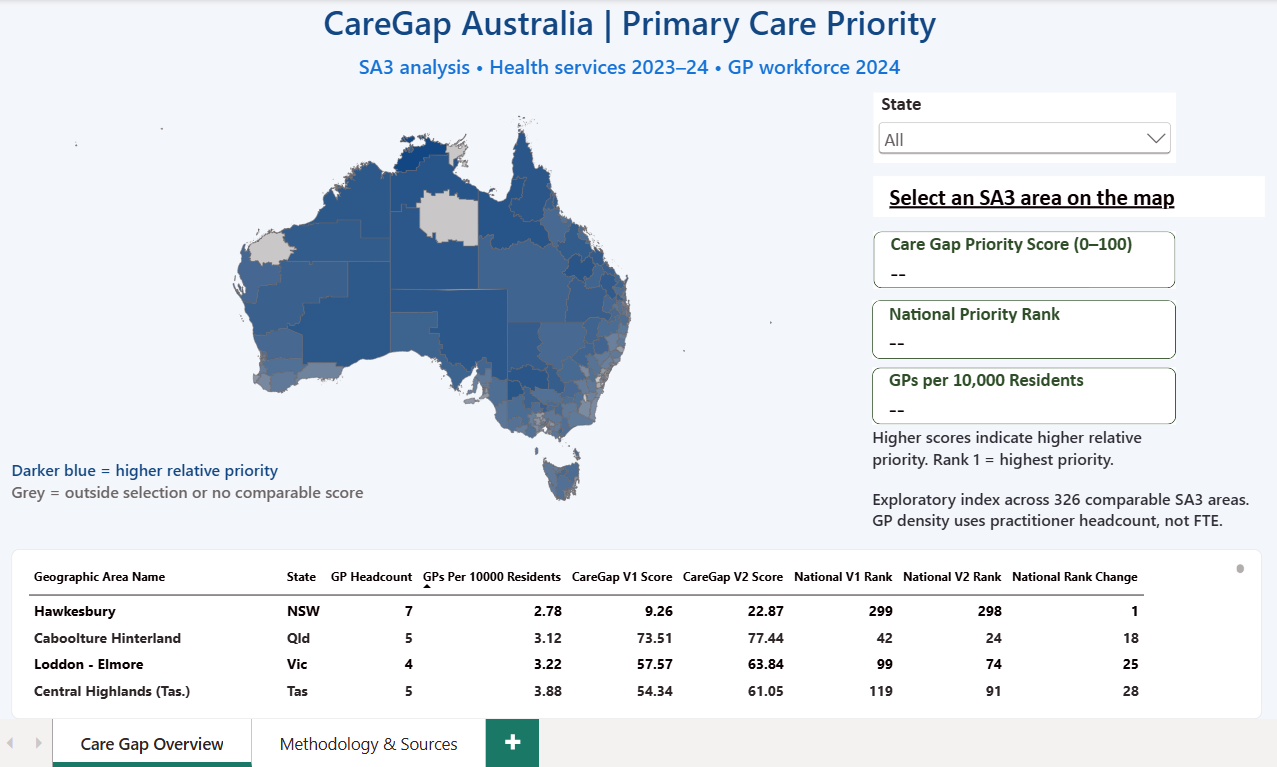

The dashboard page shown, as its layout file describes it:
{"tool":"powerbi","page":{"name":"Care Gap Overview","canvas":[1280,720],"ordinal":0},"visuals":[{"type":"tableEx","fields":{"Values":["rpt vwCareGapDashboardV2.GeographicAreaName","rpt vwCareGapDashboardV2.StateTerritory","Sum(rpt vwCareGapDashboardV2.GPPractitionerCount)","Sum(rpt vwCareGapDashboardV2.GPsPer10000Residents)","Sum(rpt vwCareGapDashboardV2.CareGapPriorityScoreV1)","Sum(rpt vwCareGapDashboardV2.CareGapPriorityScoreV2)","Sum(rpt vwCareGapDashboardV2.NationalPriorityRankV1)","Sum(rpt vwCareGapDashboardV2.NationalPriorityRankV2)","Sum(rpt vwCareGapDashboardV2.NationalRankChangeV1ToV2)"]},"box":[12.7,550.7,1250.7,170.4],"z":0},{"type":"shapeMap","fields":{"Category":["rpt vwCareGapDashboardV2.GeographicCode"],"Value":["Max(rpt vwCareGapDashboardV2.CareGapPriorityScoreV2)"]},"box":[0,81.1,849.1,459.5],"z":1000},{"type":"cardVisual","title":"Selected Area Score ","fields":{"Data":["rpt vwCareGapDashboardV2.Selected Area Score"]},"box":[874.6,232.4,302.8,57.7],"z":2000},{"type":"cardVisual","title":"Selected Area Score ","fields":{"Data":["rpt vwCareGapDashboardV2.Selected Area Rank"]},"box":[873.2,301.4,304.2,59.2],"z":4001},{"type":"cardVisual","title":"Selected Area Score ","fields":{"Data":["rpt vwCareGapDashboardV2.Selected Area GP Density"]},"box":[873.2,369,304.2,57.7],"z":4002},{"type":"cardVisual","title":"Selected Area Score ","fields":{"Data":["rpt vwCareGapDashboardV2.Selected Area Name"]},"box":[874.6,177.5,391.5,40.8],"z":4003},{"type":"textbox","title":"CareGap Australia | Primary Care Priority","box":[172.3,0,918.1,46.6],"z":4004},{"type":"textbox","title":"SA3 analysis • Health services 2023–24 • GP workforce 2024","box":[171.9,53.6,917.3,28.9],"z":4005},{"type":"textbox","title":"Higher scores indicate higher relative priority. Rank 1 = highest priority.","box":[873.2,426.8,298.6,49.3],"z":4006},{"type":"textbox","title":"Darker blue = higher relative priority","box":[12.7,459.2,401.6,33],"z":4007},{"type":"textbox","title":"Grey = outside selection or no comparable score","box":[12.7,481.7,401.6,33],"z":4008},{"type":"textbox","title":"Exploratory index across 326 comparable SA3 areas. GP density uses practitioner headcount, not FTE.","box":[873.2,488.7,389.7,48.9],"z":4009},{"type":"slicer","fields":{"Values":["rpt vwCareGapDashboardV2.State"]},"box":[874.6,93,302.8,70.4],"z":4010}]}

Visuals, with their boxes on the page's 1280x720 design canvas (x1, y1, x2, y2). These are canvas units, not pixel positions in the 1277x767 screenshot, which may show the page scaled, cropped or inside an application window:
tableEx - rpt vwCareGapDashboardV2.GeographicAreaName x rpt vwCareGapDashboardV2.StateTerritory: [13, 551, 1263, 721]
shapeMap - rpt vwCareGapDashboardV2.GeographicCode x Max(rpt vwCareGapDashboardV2.CareGapPriorityScoreV2): [0, 81, 849, 541]
"Selected Area Score " cardVisual: [875, 232, 1177, 290]
"Selected Area Score " cardVisual: [873, 301, 1177, 361]
"Selected Area Score " cardVisual: [873, 369, 1177, 427]
"Selected Area Score " cardVisual: [875, 178, 1266, 218]
"CareGap Australia | Primary Care Priority" textbox: [172, 0, 1090, 47]
"SA3 analysis • Health services 2023–24 • GP workforce 2024" textbox: [172, 54, 1089, 82]
"Higher scores indicate higher relative priority. Rank 1 = highest priority." textbox: [873, 427, 1172, 476]
"Darker blue = higher relative priority" textbox: [13, 459, 414, 492]
"Grey = outside selection or no comparable score" textbox: [13, 482, 414, 515]
"Exploratory index across 326 comparable SA3 areas. GP density uses practitioner headcount, not FTE." textbox: [873, 489, 1263, 538]
slicer - rpt vwCareGapDashboardV2.State: [875, 93, 1177, 163]
